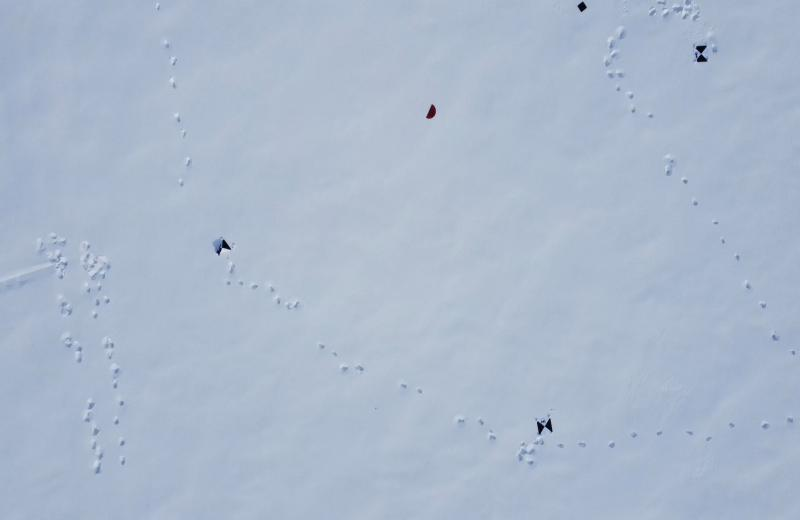Semi Circle: (425, 103, 437, 120)
Square: (576, 0, 588, 14)
